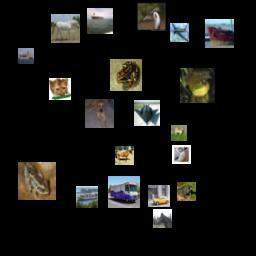airplane: (134, 100, 160, 126), (170, 23, 189, 42)
automobile: (148, 185, 170, 207)
bird: (137, 2, 166, 31)
cat: (49, 78, 71, 100), (172, 145, 191, 164)
dog: (85, 99, 114, 128), (171, 125, 187, 141)
frog: (18, 162, 56, 200), (180, 68, 215, 103), (110, 59, 142, 91), (177, 182, 196, 201)
ship: (205, 19, 234, 48), (87, 8, 113, 34), (76, 186, 98, 208), (18, 48, 34, 64)
truck: (108, 176, 140, 208)
